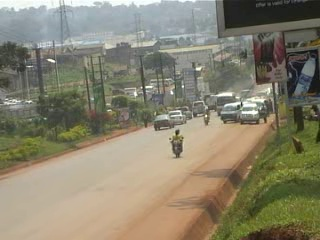Car: (238, 102, 261, 125), (152, 111, 174, 131), (191, 100, 211, 117), (168, 109, 187, 125), (179, 105, 193, 120)
Motorcycle: (167, 134, 185, 159), (202, 112, 211, 127)
